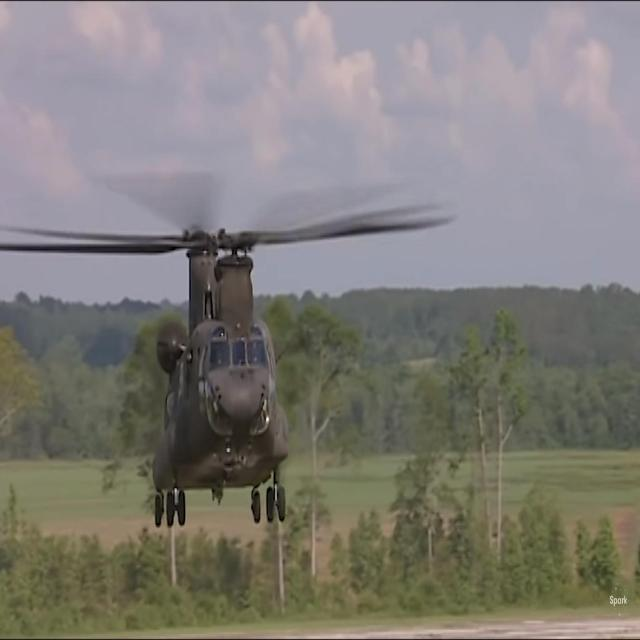Helicopter: (105, 207, 294, 521)
